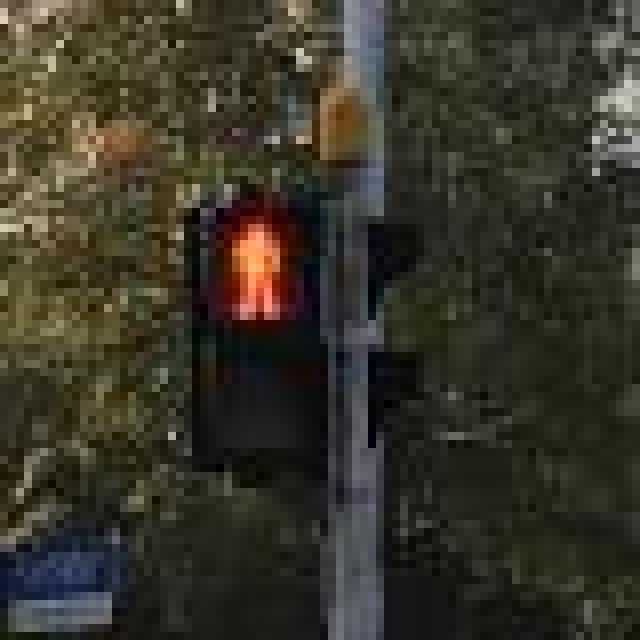redlight: (192, 176, 344, 472)
